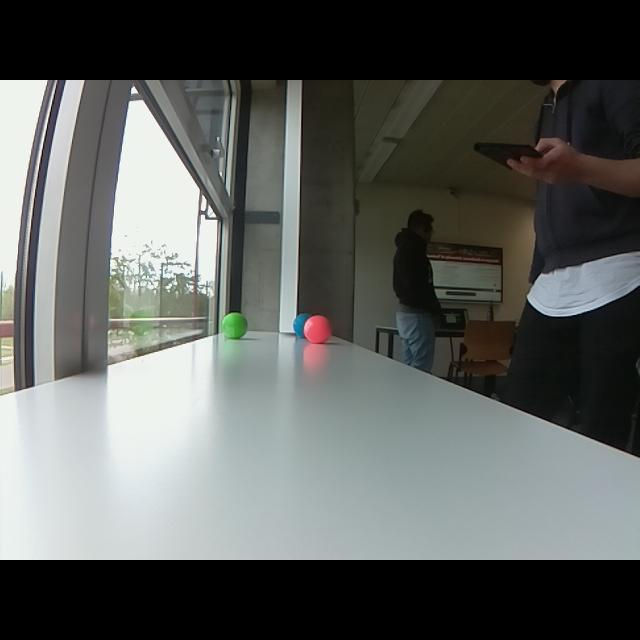ball: (220, 310, 251, 344), (302, 312, 332, 347)
